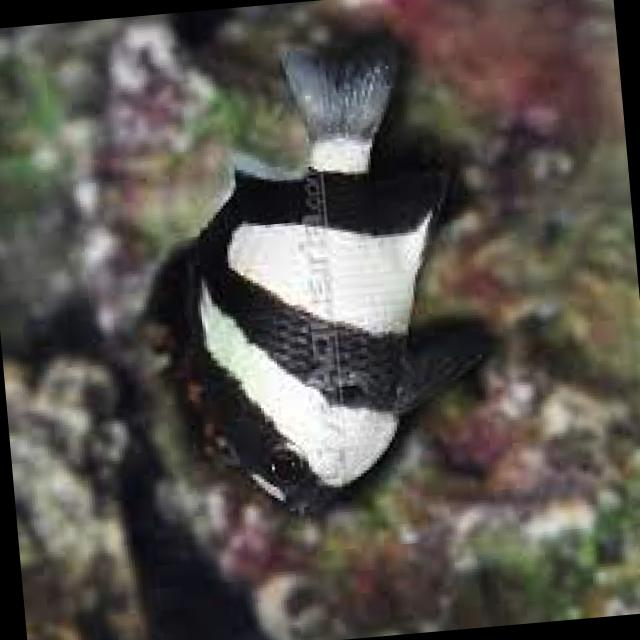ThreeStripedDamselfish: (143, 16, 507, 533)
